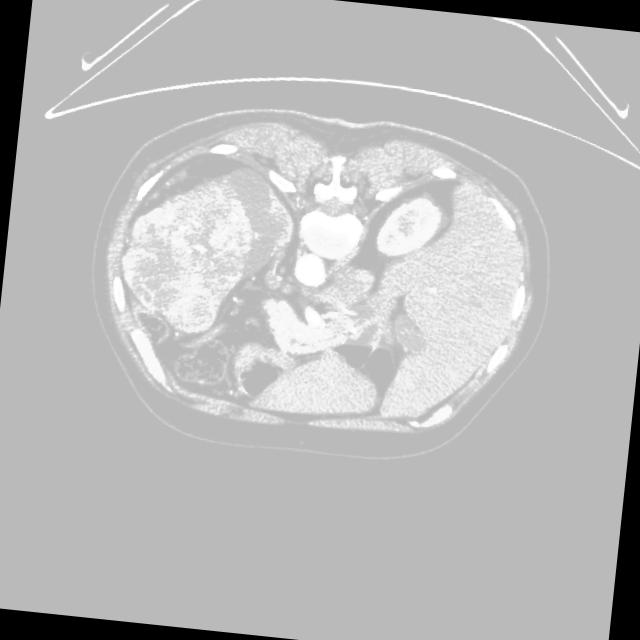TUMOR: (173, 153, 537, 349), (135, 199, 358, 350)
